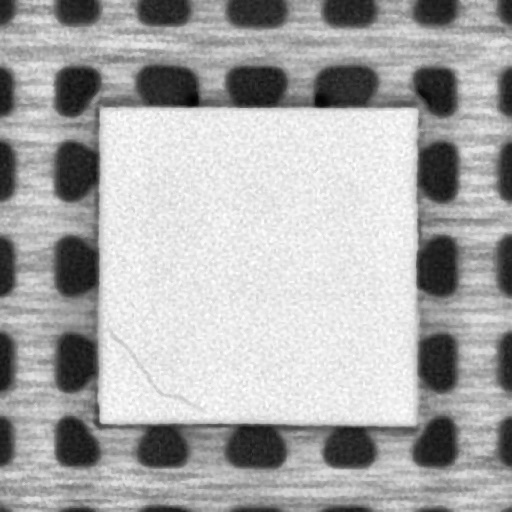DIE_CRACK: (110, 332, 202, 411)
